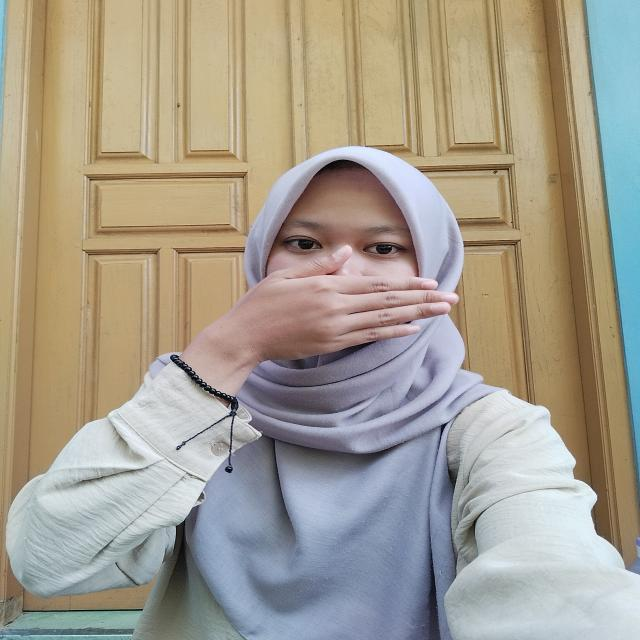buruk: (203, 236, 467, 366)
